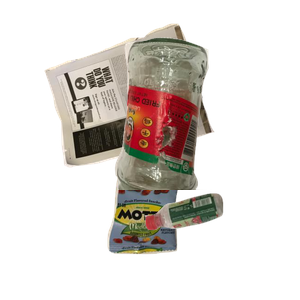glass: (112, 35, 300, 215)
paper: (42, 21, 249, 181)
plastic: (142, 191, 300, 300)
trash: (105, 152, 280, 300)
